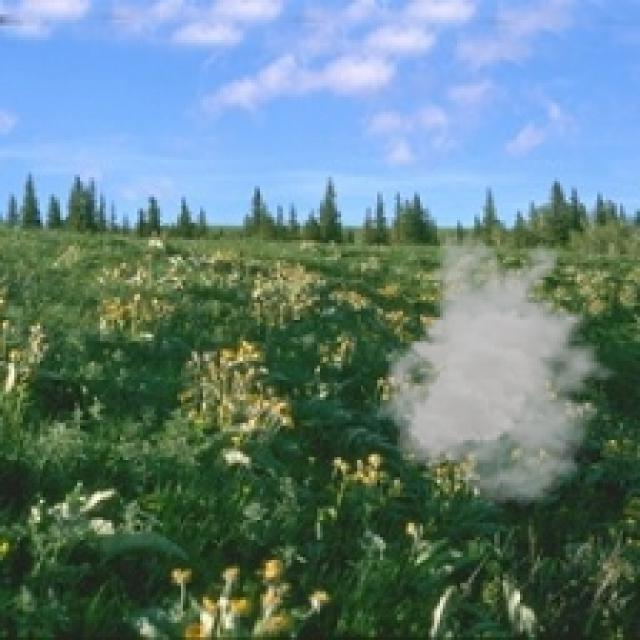Smoke: (374, 231, 629, 506)
